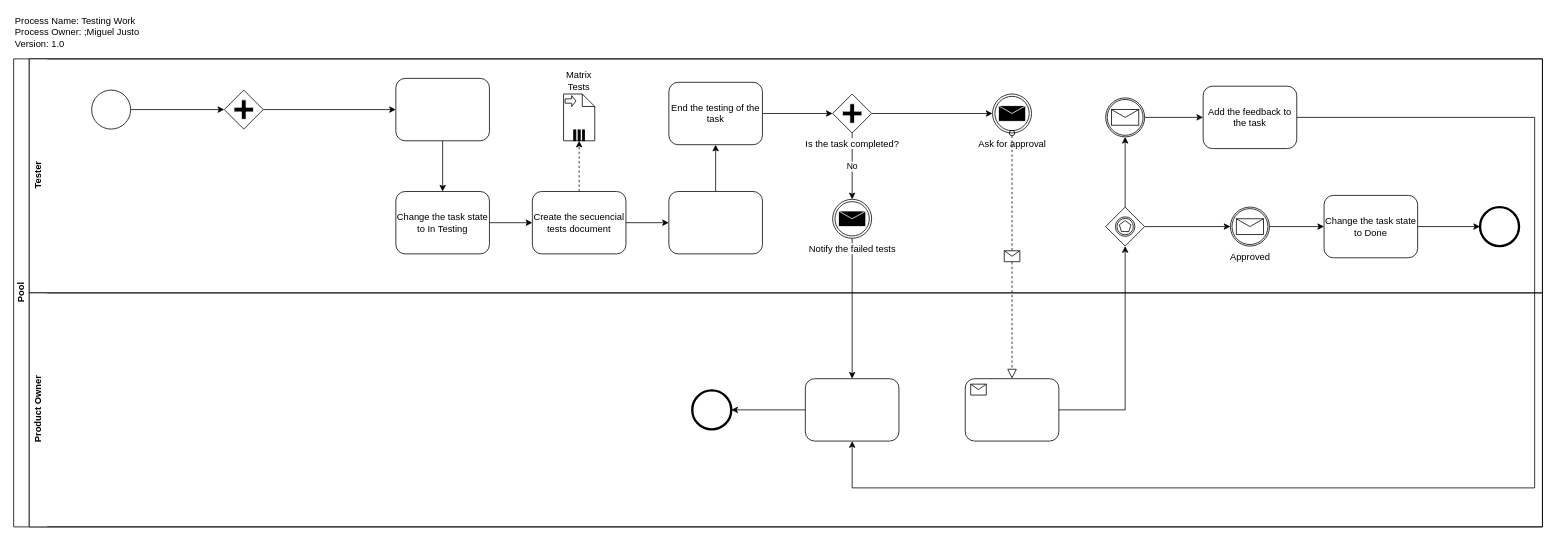
The diagram is 1556 pixels wide and 541 high, and some of its shapes have lost their labels. Here are the shapes that lost their labels. From the top down, the centre of each, then its label:
At point (243, 109): "Has the Sprint Backlog tasks in Ready for Testing".
At point (442, 109): "Select one task".
At point (1125, 117): "Got feedback".
At point (715, 222): "Start the tests of the task".
At point (852, 409): "Return the task to the backlog".
At point (1011, 409): "Confirm expectations".
